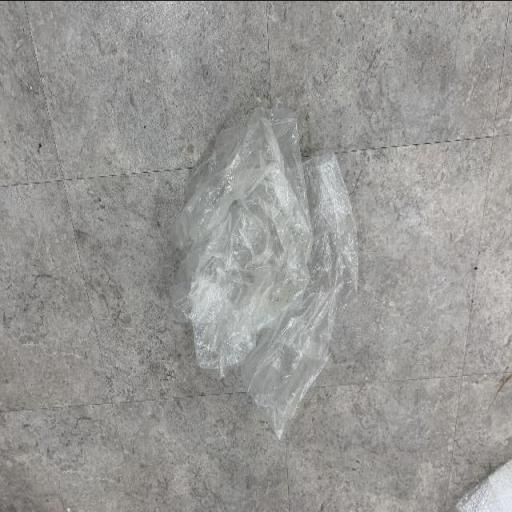plastic-bag: (168, 95, 367, 443)
